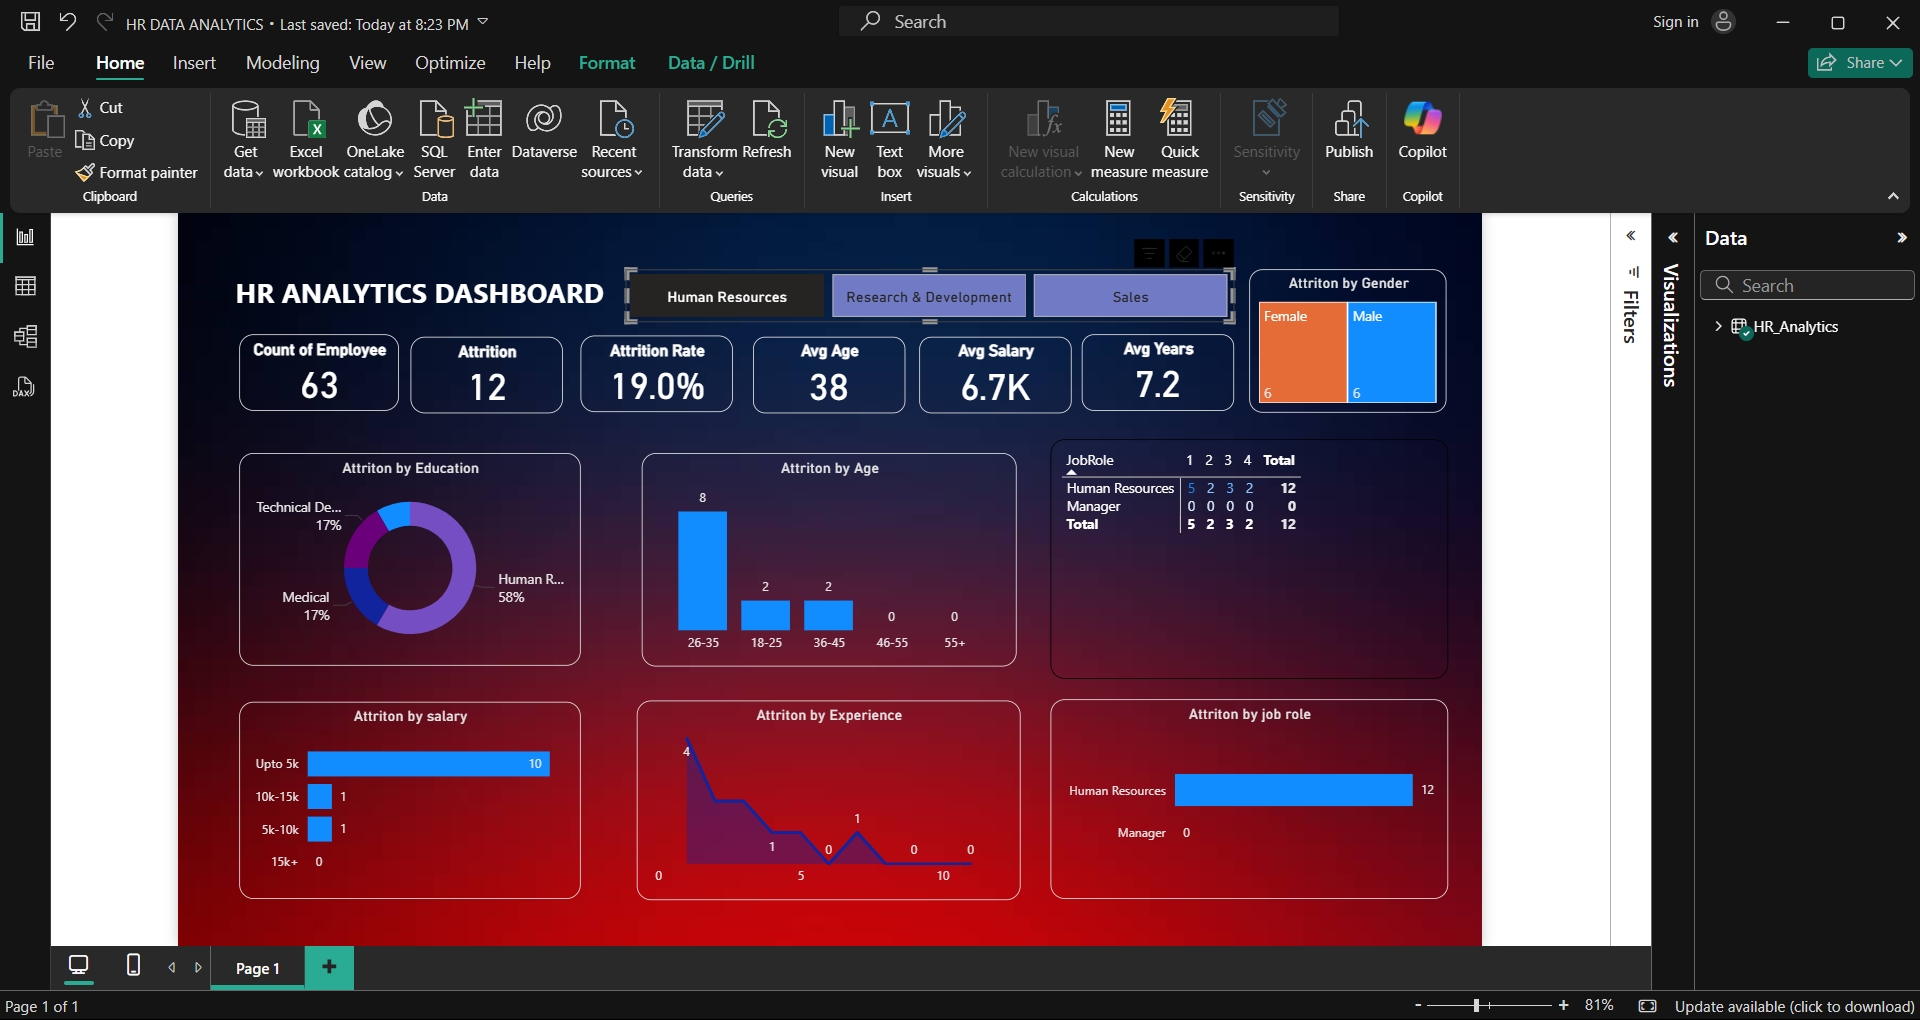

This screenshot's page, from the dashboard's own definition file:
{"tool":"powerbi","page":{"name":"Page 1","canvas":[1280,720],"ordinal":0},"visuals":[{"type":"card","title":"Count of Employee","fields":{"Values":["CountNonNull(HR_Analytics.EmpID)"]},"box":[60.1,119,157.1,74.8],"z":0},{"type":"card","title":"Attrition","fields":{"Values":["Sum(HR_Analytics.AttritionCount)"]},"box":[228.2,121.5,149.7,74.8],"z":1000},{"type":"card","title":"Attrition Rate","fields":{"Values":["HR_Analytics.AttritionRate"]},"box":[395.1,120.2,149.7,74.8],"z":2000},{"type":"card","title":"Avg Age","fields":{"Values":["Avg(HR_Analytics.Age)"]},"box":[564.4,121.5,149.7,74.8],"z":3000},{"type":"card","title":"Avg Salary","fields":{"Values":["Avg(HR_Analytics.MonthlyIncome)"]},"box":[727.6,121.5,149.7,74.8],"z":4000},{"type":"card","title":"Avg Years","fields":{"Values":["Avg(HR_Analytics.YearsAtCompany)"]},"box":[887.1,119,149.7,74.8],"z":5000},{"type":"donutChart","title":"Attriton by Education","fields":{"Category":["HR_Analytics.EducationField"],"Y":["Sum(HR_Analytics.AttritionCount)"]},"box":[60.1,235.6,335,208.6],"z":6000},{"type":"columnChart","title":"Attriton by Age","fields":{"Category":["HR_Analytics.AgeGroup"],"Y":["Sum(HR_Analytics.AttritionCount)"]},"box":[455.2,235.6,368.1,209.8],"z":7000},{"type":"pivotTable","fields":{"Rows":["HR_Analytics.JobRole"],"Columns":["HR_Analytics.JobSatisfaction"],"Values":["Sum(HR_Analytics.AttritionCount)"]},"box":[856.4,222.1,390.2,235.6],"z":8000},{"type":"barChart","title":"Attriton by salary","fields":{"Category":["HR_Analytics.SalarySlab"],"Y":["Sum(HR_Analytics.AttritionCount)"]},"box":[60.1,479.8,335,193.9],"z":9000},{"type":"barChart","title":"Attriton by job role","fields":{"Category":["HR_Analytics.JobRole"],"Y":["Sum(HR_Analytics.AttritionCount)"]},"box":[856.4,477.3,390.2,196.3],"z":10000},{"type":"areaChart","title":"Attriton by Experience","fields":{"Category":["HR_Analytics.YearsAtCompany"],"Y":["Sum(HR_Analytics.AttritionCount)"]},"box":[450.3,478.5,376.7,196.3],"z":11000},{"type":"treemap","title":"Attriton by Gender","fields":{"Group":["HR_Analytics.Gender"],"Values":["Sum(HR_Analytics.AttritionCount)"]},"box":[1051.5,55.2,193.9,141.1],"z":12000},{"type":"advancedSlicerVisual","fields":{"Values":["HR_Analytics.Department"]},"box":[439.3,55.2,597.5,52.8],"z":13000},{"type":"textbox","box":[51.5,55.2,387.7,52.8],"z":14000}]}

Visuals, with their boxes in screenshot pixels (x1, y1, x2, y2):
"Count of Employee" card: <region>46, 190, 258, 291</region>
"Attrition" card: <region>273, 194, 474, 295</region>
"Attrition Rate" card: <region>497, 192, 699, 293</region>
"Avg Age" card: <region>726, 194, 927, 295</region>
"Avg Salary" card: <region>945, 194, 1147, 295</region>
"Avg Years" card: <region>1160, 190, 1362, 291</region>
"Attriton by Education" donutChart: <region>46, 347, 497, 629</region>
"Attriton by Age" columnChart: <region>578, 347, 1074, 630</region>
pivotTable - HR_Analytics.JobRole x HR_Analytics.JobSatisfaction: <region>1119, 329, 1645, 647</region>
"Attriton by salary" barChart: <region>46, 677, 497, 938</region>
"Attriton by job role" barChart: <region>1119, 673, 1645, 938</region>
"Attriton by Experience" areaChart: <region>572, 675, 1079, 939</region>
"Attriton by Gender" treemap: <region>1382, 104, 1643, 295</region>
advancedSlicerVisual - HR_Analytics.Department: <region>557, 104, 1362, 176</region>
textbox: <region>34, 104, 557, 176</region>
